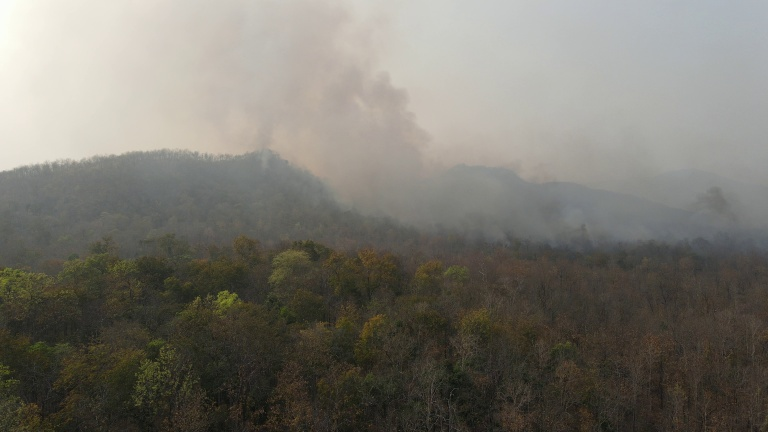smoke: (220, 3, 594, 243), (603, 158, 768, 243), (246, 42, 285, 175)
